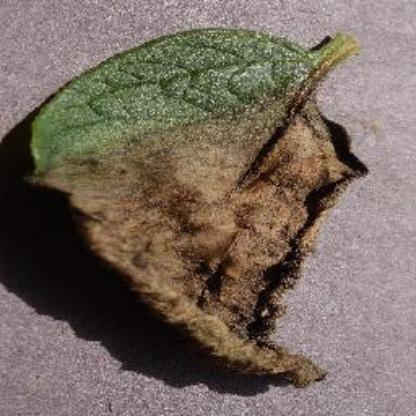Late-Blight: (11, 12, 401, 402)
